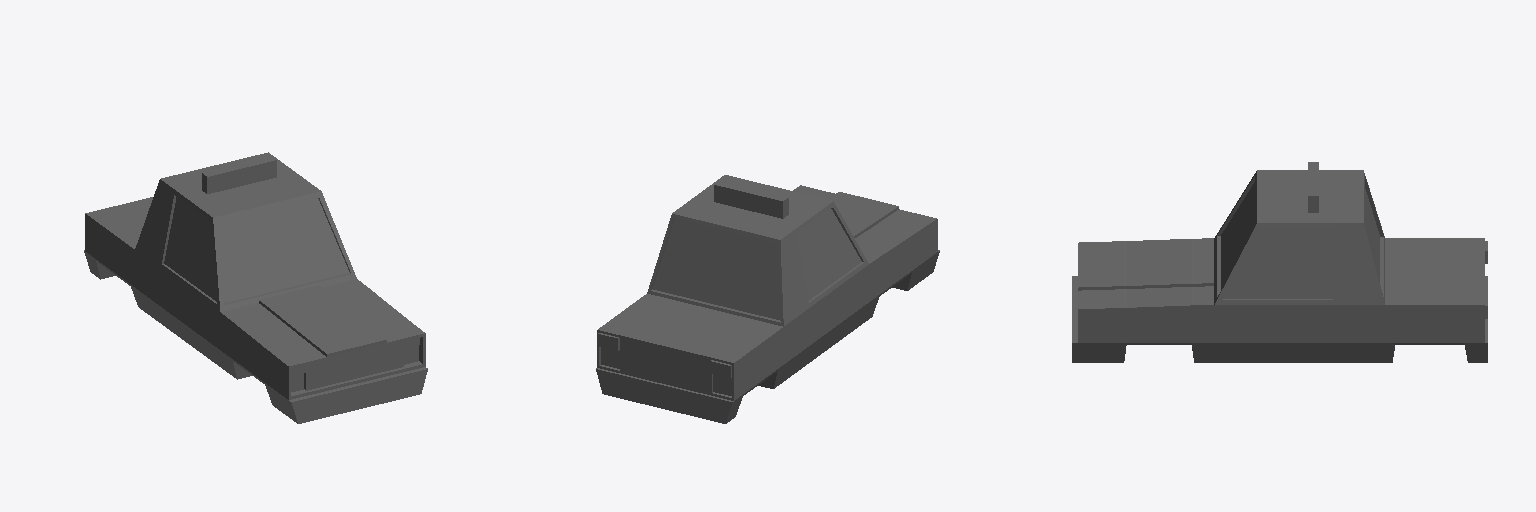
The model's file is LP_Car_09.obj.
3 renders of one model, left to right at view 1: azimuth 30°, elevation 25°; view 2: azimuth 150°, elevation 25°; view 3: azimuth 270°, elevation 25°, orthographic.
Parts seen in each view (by area): view 1: Box001; view 2: Box001; view 3: Box001.
Boxes of the visible parts, x1,y1,x2,y2 form: Box001: [84, 152, 427, 423]; Box001: [596, 175, 939, 423]; Box001: [1072, 162, 1487, 362].
Bounding box in the file's own units: 21.03 × 22.7 × 55.29.